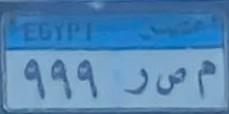9: (48, 58, 74, 99), (21, 55, 45, 99), (74, 58, 99, 100)
meem: (194, 57, 216, 103)
raa: (122, 66, 149, 99)
saad: (153, 67, 187, 101)
